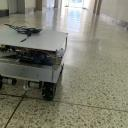cart: (0, 28, 69, 100)
